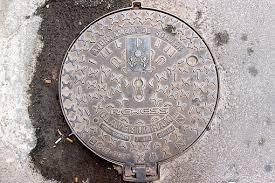closed manhole-not overflowing-: (56, 4, 222, 180)
